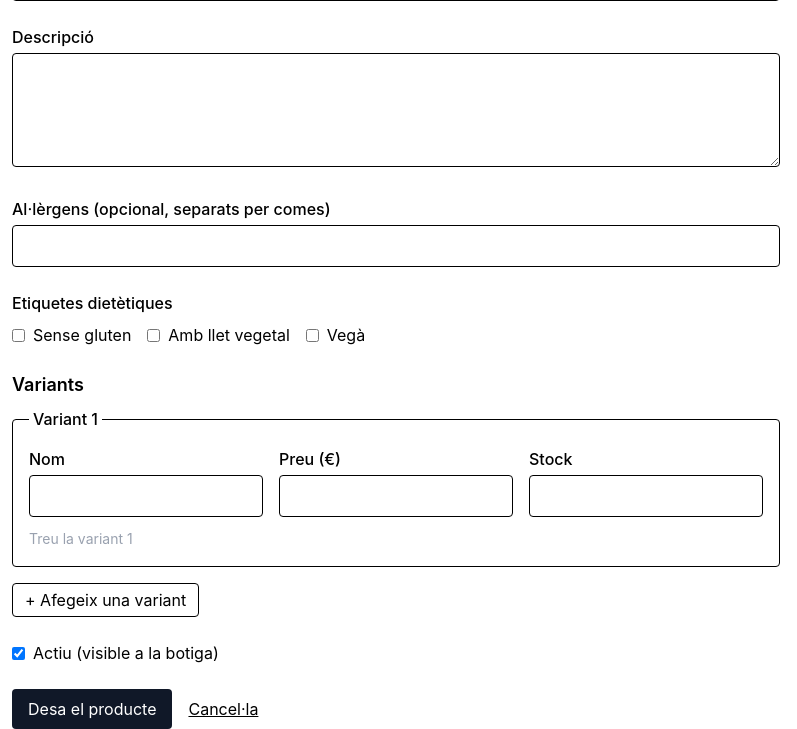
it: NewProductPage › shows the errors and does not send an empty form
(page scrolled)
Note: When the admin saves it
Click the button "Desa el producte": (92, 709) [12,689,172,728]
(page scrolled)
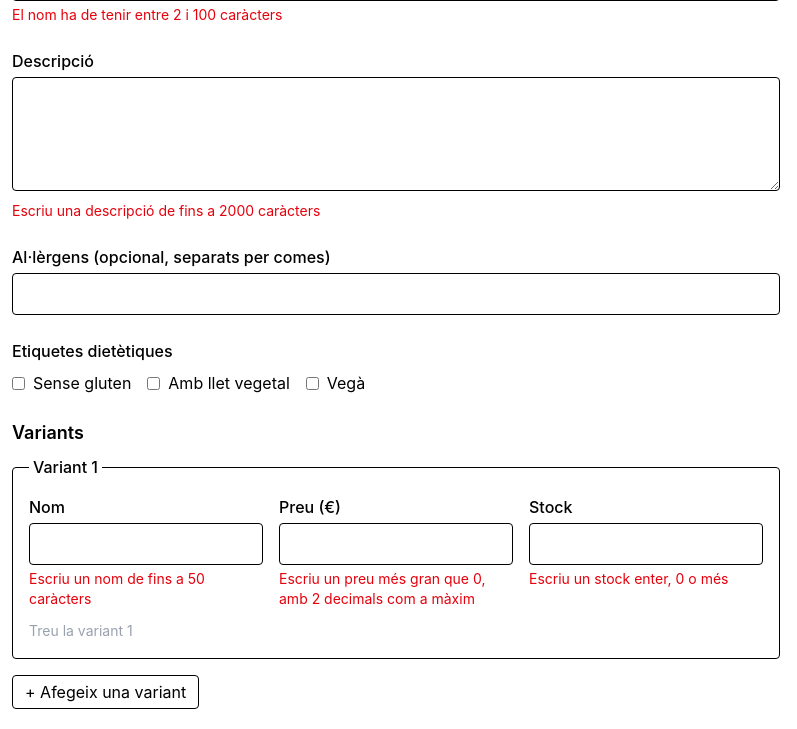
Now the text "El nom ha de tenir entre 2 i 100 caràcters" is shown, box [12,6,282,23]
